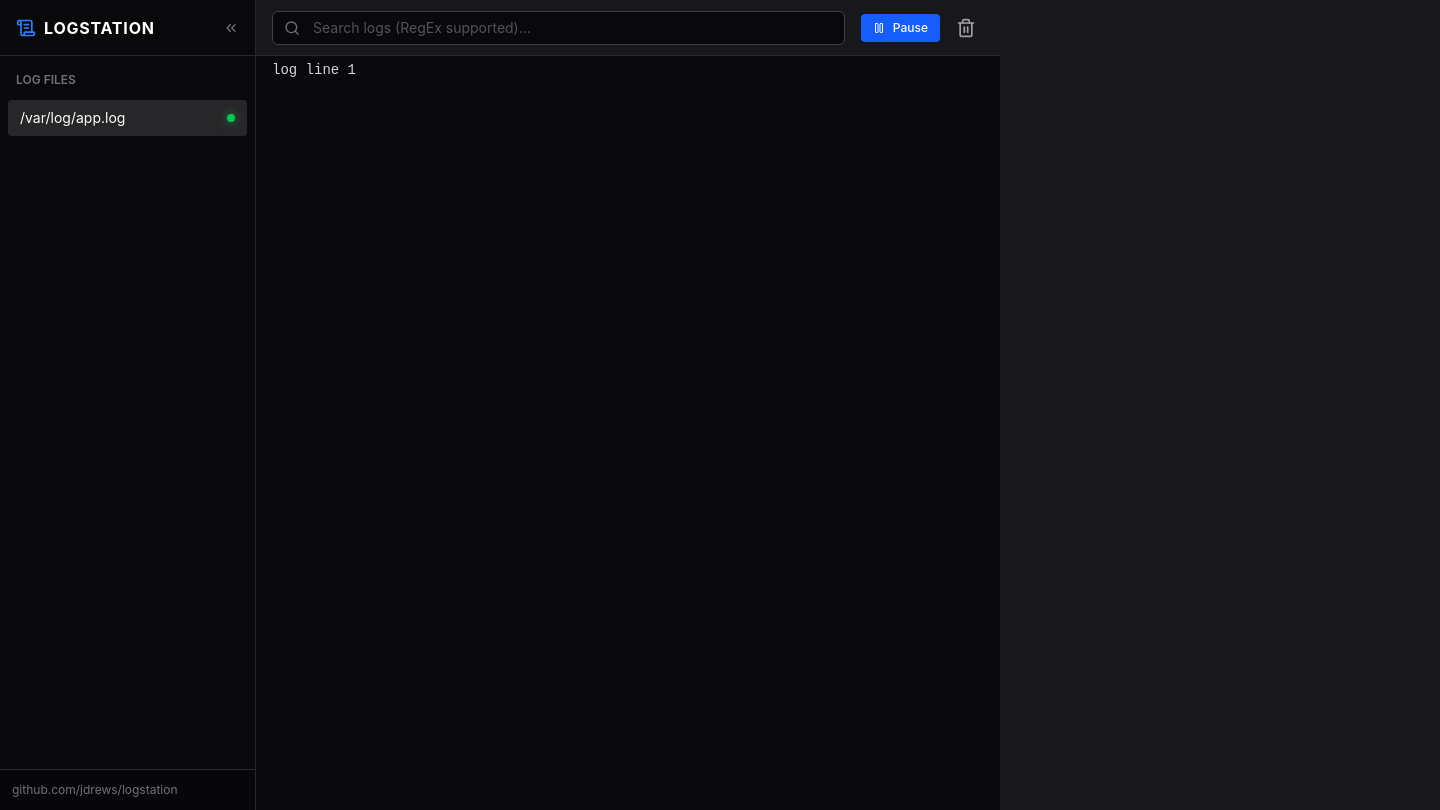
Test: MainLayout › collapses the sidebar to icons and expands it again
Click the button titled "Collapse Sidebar".
click(231, 28)  # box [223,20,239,36]
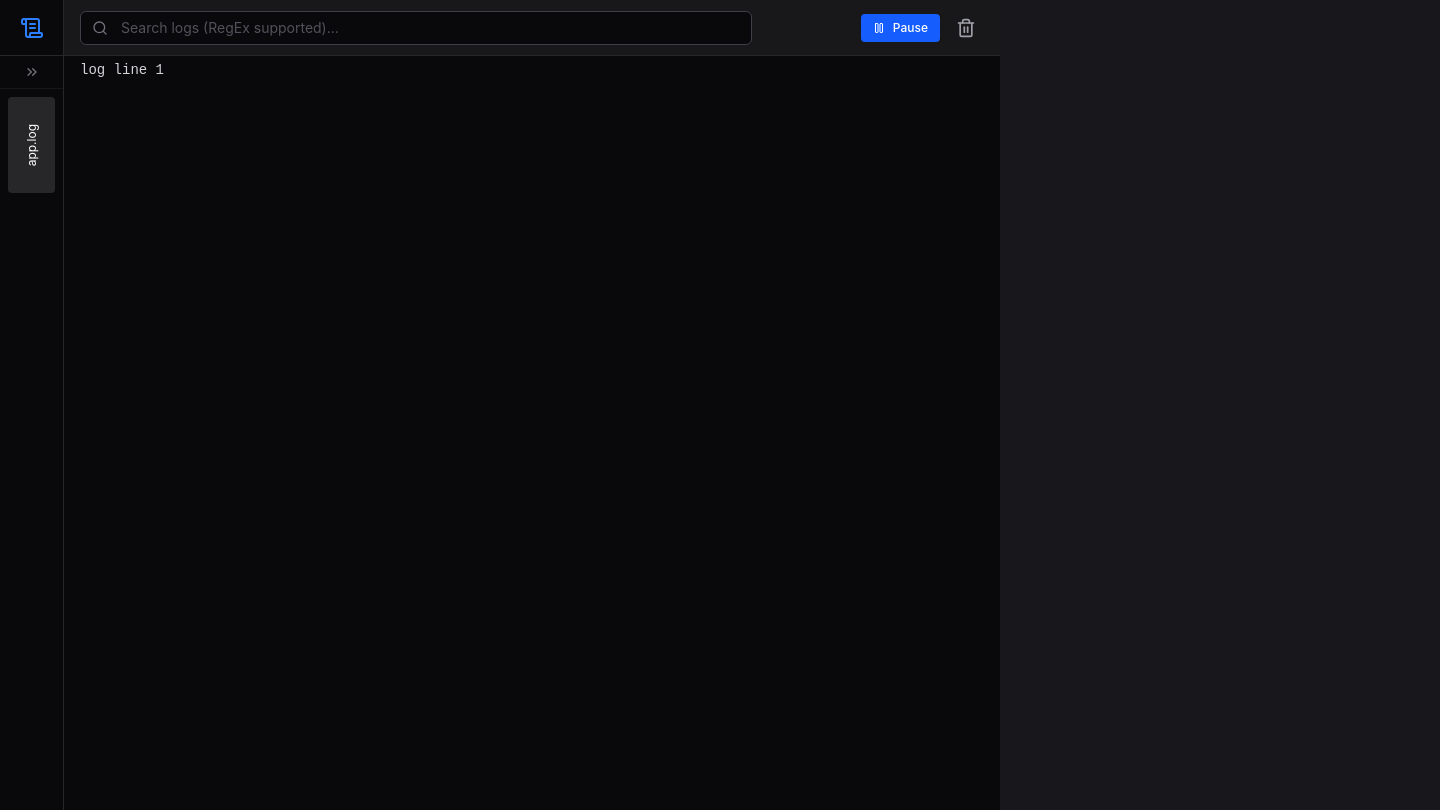
Expected: the text "app.log" is shown, [24,124,40,166]
Now the heading "LOGSTATION" is gone
Now the link "github.com/jdrews/logstation" is gone
# Expand: everything is back
Click the button titled "Expand Sidebar".
click(32, 72)  # box [24,64,40,80]
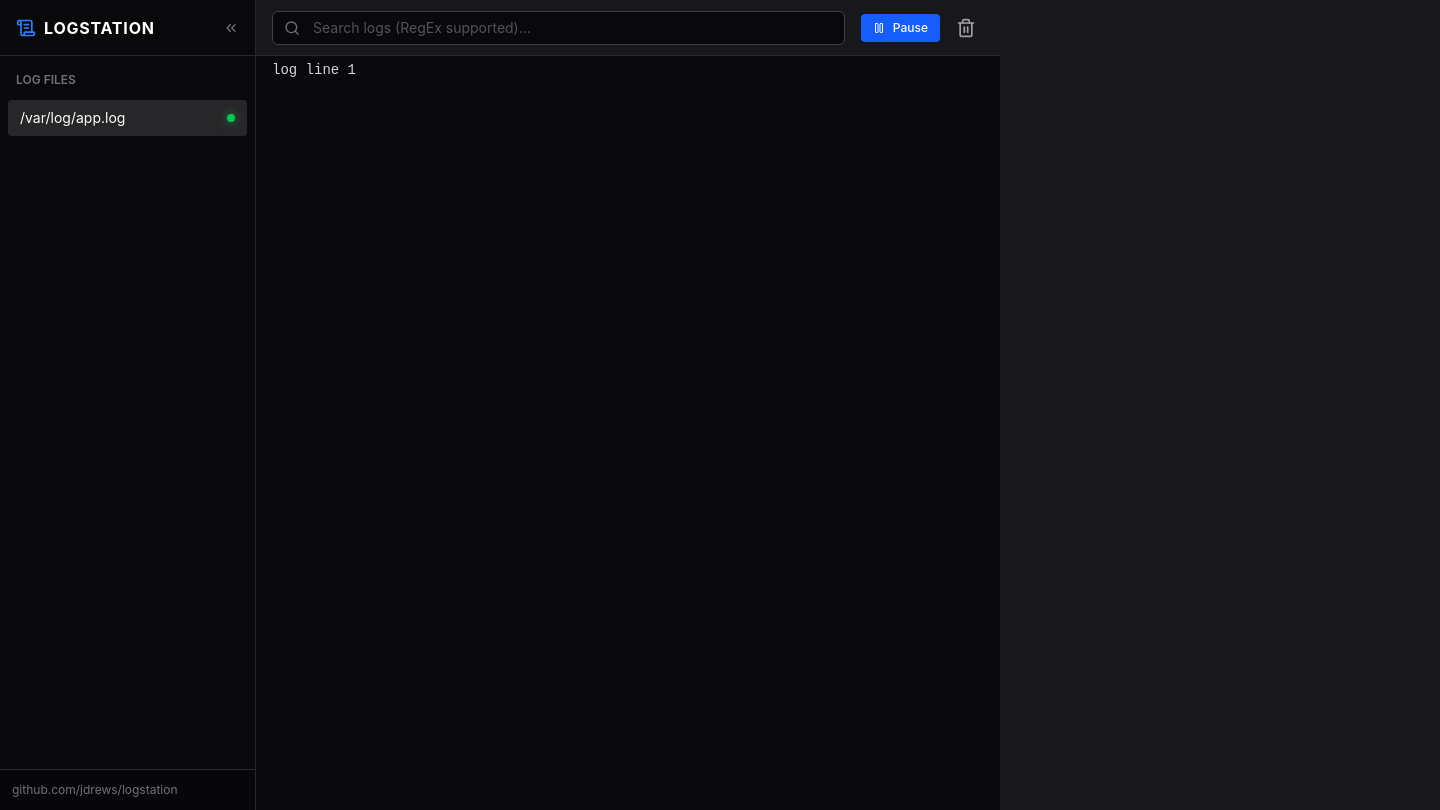
Now the heading "LOGSTATION" is shown, box [44,16,155,40]
Now the link "github.com/jdrews/logstation" is shown, box [12,782,178,797]
